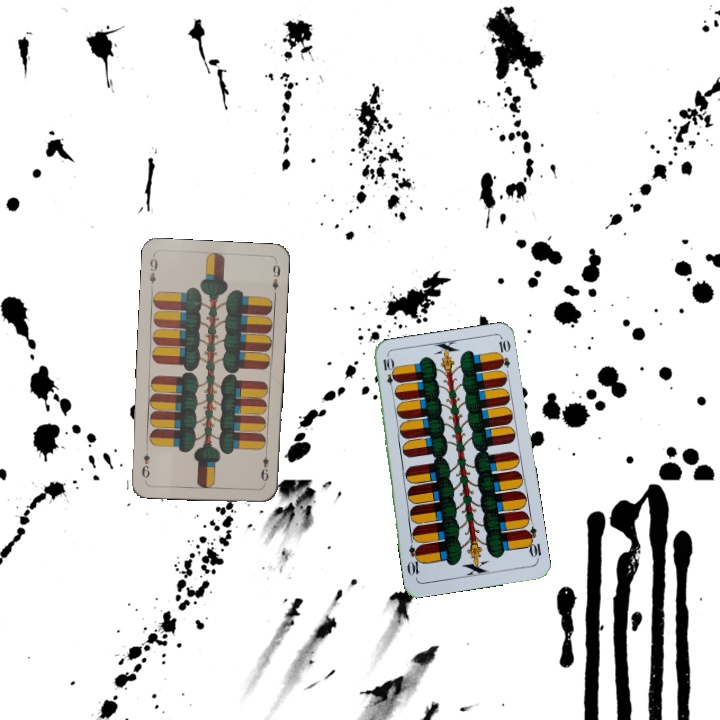E10: (521, 523, 544, 563), (379, 354, 397, 394)
E9: (145, 254, 160, 293), (257, 447, 271, 484)
